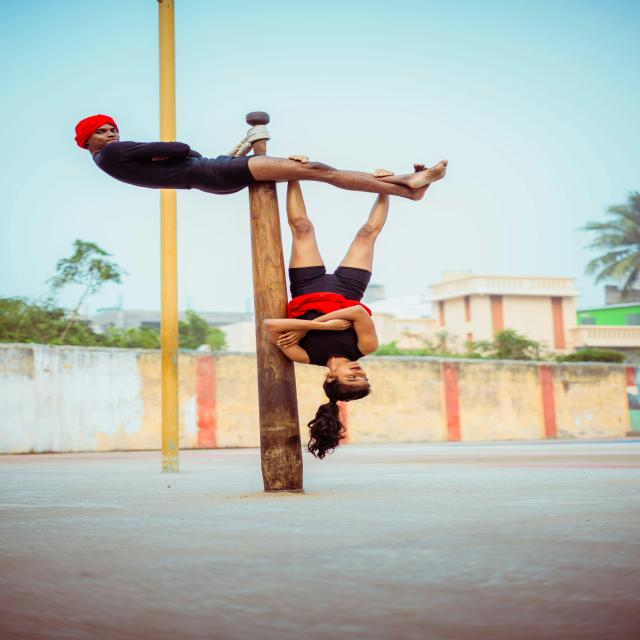lie: (66, 109, 442, 202)
stand: (276, 169, 400, 402)
